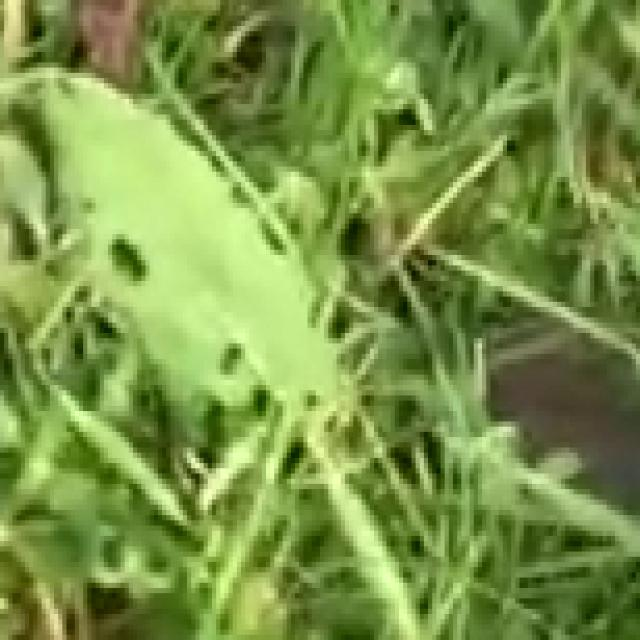organic waste: (0, 57, 432, 541)
